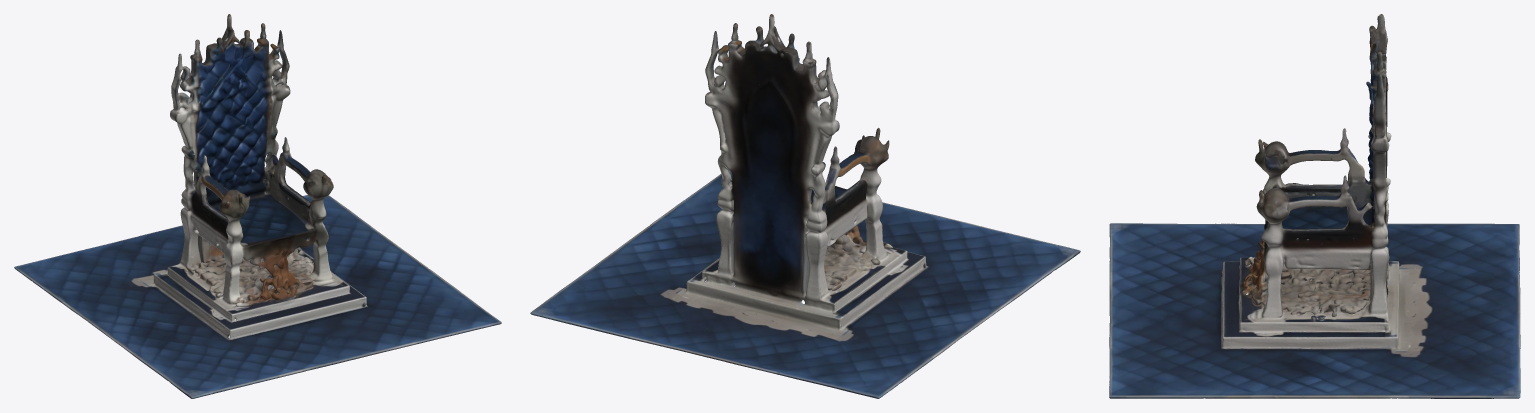
The model's file is throne-meshy-3-compressed.glb.
The picture shows the model from 3 angles, left to right: view 1: azimuth 30°, elevation 25°; view 2: azimuth 150°, elevation 25°; view 3: azimuth 270°, elevation 25°; orthographic projection. The views are drawn at different scales.
Size of the model in its own units: 2.01 by 1.61 by 2.01.
1 material, 1 textured.
